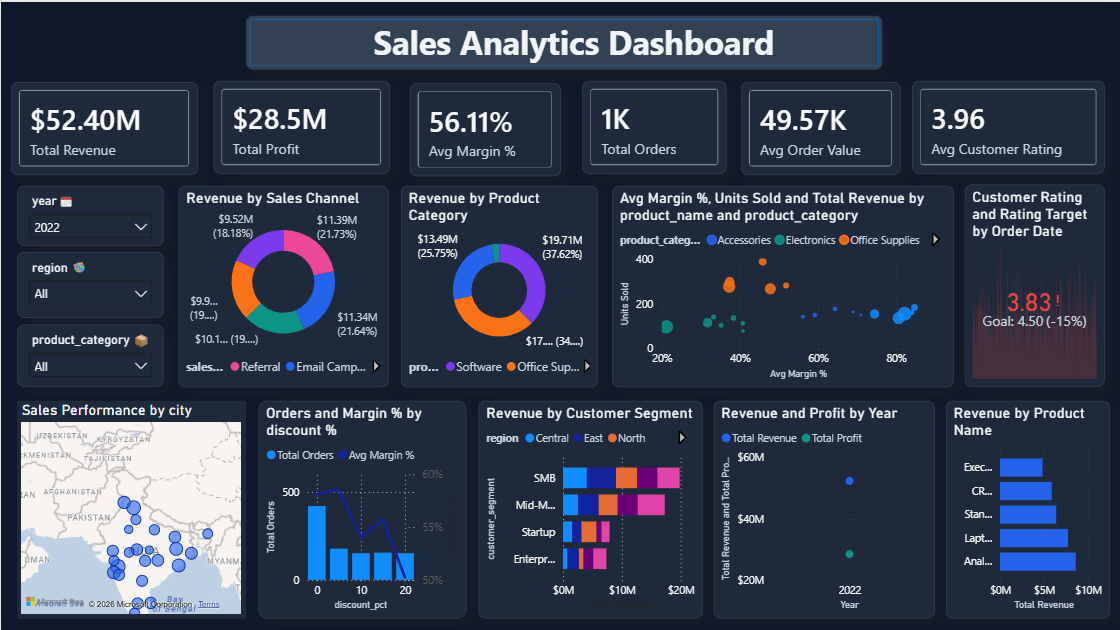

What the dashboard file says about the page in this screenshot:
{"tool":"powerbi","page":{"name":"Page 1","canvas":[1280,720],"ordinal":0},"visuals":[{"type":"cardVisual","fields":{"Data":["sales_cleaned.Total Revenue"]},"box":[11.2,91.2,213.8,106.2],"z":0},{"type":"cardVisual","fields":{"Data":["sales_cleaned.Total Orders"]},"box":[665,90,165,106.2],"z":1000},{"type":"cardVisual","fields":{"Data":["sales_cleaned.Total Profit"]},"box":[242.5,90,201.2,106.2],"z":2000},{"type":"cardVisual","fields":{"Data":["sales_cleaned.Avg Order Value"]},"box":[845,91.2,182.5,106.2],"z":3000},{"type":"cardVisual","fields":{"Data":["sales_cleaned.Avg Margin %"]},"box":[467.5,92.5,172.5,106.2],"z":4000},{"type":"cardVisual","fields":{"Data":["sales_cleaned.Avg Customer Rating"]},"box":[1041.2,90,220,106.2],"z":5000},{"type":"lineChart","title":"Revenue and Profit by Year","fields":{"Category":["sales_cleaned.order_date.Variation.Date Hierarchy.Year","sales_cleaned.order_date.Variation.Date Hierarchy.Quarter","sales_cleaned.order_date.Variation.Date Hierarchy.Month","sales_cleaned.order_date.Variation.Date Hierarchy.Day"],"Y":["sales_cleaned.Total Revenue","sales_cleaned.Total Profit"]},"box":[813.8,456.2,252.5,248.8],"z":6000},{"type":"donutChart","title":"Revenue by Product Category","fields":{"Category":["sales_cleaned.product_category"],"Y":["sales_cleaned.Total Revenue"]},"box":[457.5,210,225,230],"z":7000},{"type":"slicer","fields":{"Values":["sales_cleaned.year"]},"box":[18.8,210,167.5,68.8],"z":8000},{"type":"slicer","fields":{"Values":["sales_cleaned.region"]},"box":[18.8,285,167.5,75],"z":9000},{"type":"slicer","fields":{"Values":["sales_cleaned.product_category"]},"box":[18.8,368.8,167.5,71.2],"z":10000},{"type":"barChart","title":"Revenue by Product Name","fields":{"Category":["sales_cleaned.product_name"],"Y":["sales_cleaned.Total Revenue"]},"box":[1080,456.2,187.5,248.8],"z":11000},{"type":"pivotTable","fields":{"Rows":["sales_cleaned.product_category","sales_cleaned.product_name"],"Values":["sales_cleaned.Total Revenue","sales_cleaned.Total Profit","sales_cleaned.Avg Margin %","sales_cleaned.Units Sold"]},"box":[615.7,528.6,165.7,150],"z":12000},{"type":"scatterChart","fields":{"X":["sales_cleaned.Avg Margin %"],"Y":["sales_cleaned.Units Sold"],"Size":["sales_cleaned.Total Revenue"],"Series":["sales_cleaned.product_category"],"Category":["sales_cleaned.product_name"]},"box":[698.8,210,390,230],"z":13000},{"type":"barChart","title":"Revenue by Customer Segment","fields":{"Y":["sales_cleaned.Total Revenue"],"Category":["sales_cleaned.customer_segment"],"Series":["sales_cleaned.region"]},"box":[545,456.2,256.2,248.8],"z":14000},{"type":"donutChart","title":"Revenue by Sales Channel","fields":{"Category":["sales_cleaned.sales_channel"],"Y":["sales_cleaned.Total Revenue"]},"box":[202.5,210,240,230],"z":15000},{"type":"lineStackedColumnComboChart","title":"Orders and Margin % by discount %","fields":{"Category":["sales_cleaned.discount_pct"],"Y":["sales_cleaned.Total Orders"],"Y2":["sales_cleaned.Avg Margin %"]},"box":[293.8,456.2,237.5,248.8],"z":16000},{"type":"kpi","title":"Customer Rating and Rating Target by Order Date","fields":{"Indicator":["sales_cleaned.Avg Customer Rating"],"TrendLine":["sales_cleaned.order_date"],"Goal":["sales_cleaned.Rating Target"]},"box":[1101.2,208.8,160,231.2],"z":17000},{"type":"map","title":"Sales Performance by city","fields":{"Category":["sales_cleaned.city"],"Size":["sales_cleaned.Total Revenue"]},"box":[18.8,456.2,261.2,248.8],"z":18000},{"type":"shape","box":[280,15,727.5,61.2],"z":19000},{"type":"textbox","box":[348.8,15,612.5,60],"z":20000},{"type":"image","box":[65.3,221.8,17.1,12.9],"z":21500},{"type":"image","box":[82.4,297.1,12.9,12.4],"z":22001},{"type":"image","box":[149.4,380,21.2,14.7],"z":23002}]}

Visuals, with their boxes in screenshot pixels (x1, y1, x2, y2), scaled from the page's 1280x720 canvas onto the 1120x630 screenshot:
cardVisual - sales_cleaned.Total Revenue: <bbox>10, 80, 197, 173</bbox>
cardVisual - sales_cleaned.Total Orders: <bbox>582, 79, 726, 172</bbox>
cardVisual - sales_cleaned.Total Profit: <bbox>212, 79, 388, 172</bbox>
cardVisual - sales_cleaned.Avg Order Value: <bbox>739, 80, 899, 173</bbox>
cardVisual - sales_cleaned.Avg Margin %: <bbox>409, 81, 560, 174</bbox>
cardVisual - sales_cleaned.Avg Customer Rating: <bbox>911, 79, 1104, 172</bbox>
"Revenue and Profit by Year" lineChart: <bbox>712, 399, 933, 617</bbox>
"Revenue by Product Category" donutChart: <bbox>400, 184, 597, 385</bbox>
slicer - sales_cleaned.year: <bbox>16, 184, 163, 244</bbox>
slicer - sales_cleaned.region: <bbox>16, 249, 163, 315</bbox>
slicer - sales_cleaned.product_category: <bbox>16, 323, 163, 385</bbox>
"Revenue by Product Name" barChart: <bbox>945, 399, 1109, 617</bbox>
pivotTable - sales_cleaned.product_category x sales_cleaned.product_name: <bbox>539, 463, 684, 594</bbox>
scatterChart - sales_cleaned.Avg Margin % x sales_cleaned.Units Sold: <bbox>611, 184, 953, 385</bbox>
"Revenue by Customer Segment" barChart: <bbox>477, 399, 701, 617</bbox>
"Revenue by Sales Channel" donutChart: <bbox>177, 184, 387, 385</bbox>
"Orders and Margin % by discount %" lineStackedColumnComboChart: <bbox>257, 399, 465, 617</bbox>
"Customer Rating and Rating Target by Order Date" kpi: <bbox>964, 183, 1104, 385</bbox>
"Sales Performance by city" map: <bbox>16, 399, 245, 617</bbox>
shape: <bbox>245, 13, 882, 67</bbox>
textbox: <bbox>305, 13, 841, 66</bbox>
image: <bbox>57, 194, 72, 205</bbox>
image: <bbox>72, 260, 83, 271</bbox>
image: <bbox>131, 332, 149, 345</bbox>
